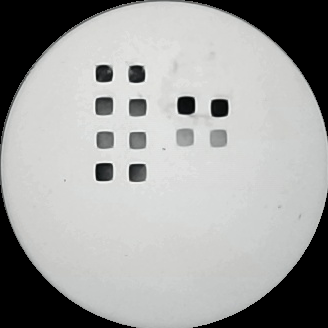检查点: (93, 162, 117, 183), (126, 163, 148, 184), (175, 127, 198, 147), (94, 95, 115, 116), (176, 95, 197, 116), (127, 130, 148, 151), (95, 130, 117, 150), (128, 96, 148, 117), (210, 97, 230, 118), (208, 129, 230, 148), (127, 65, 147, 84), (95, 65, 115, 83)
